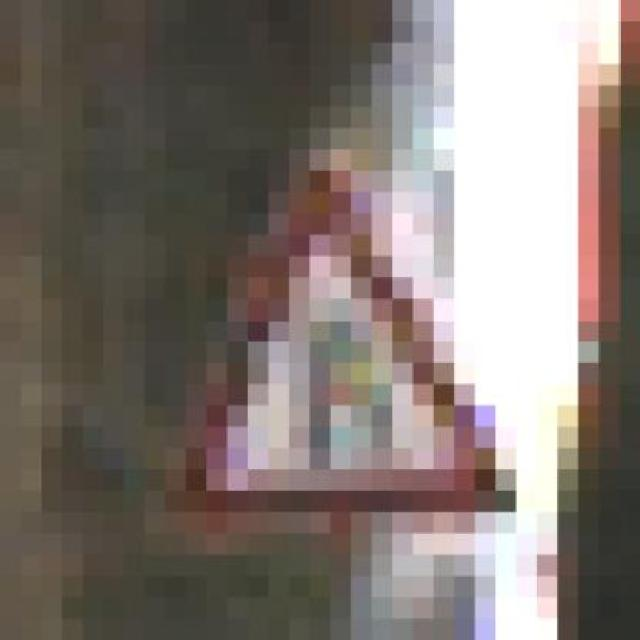-Road narrows on right: (145, 128, 537, 555)
